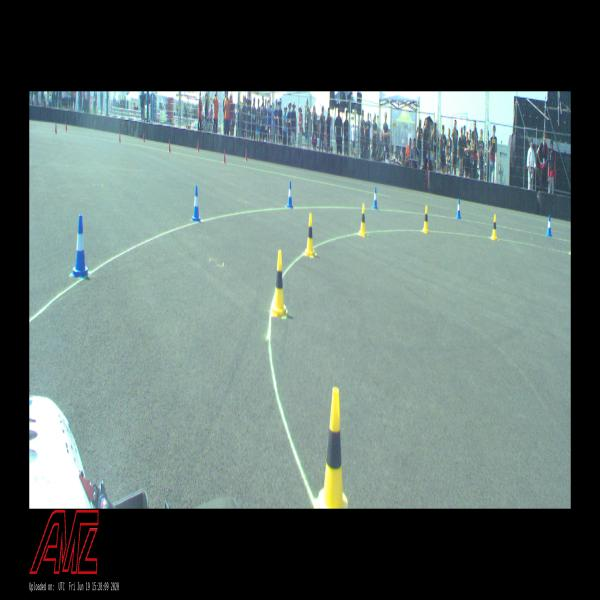blue_cone: (73, 214, 88, 276), (192, 184, 200, 222), (287, 181, 293, 208), (372, 186, 378, 210), (546, 215, 552, 236), (456, 198, 461, 219)
yellow_cone: (318, 387, 349, 508), (272, 249, 286, 314), (305, 212, 315, 256), (359, 204, 367, 236), (422, 205, 429, 233), (491, 214, 497, 240)
